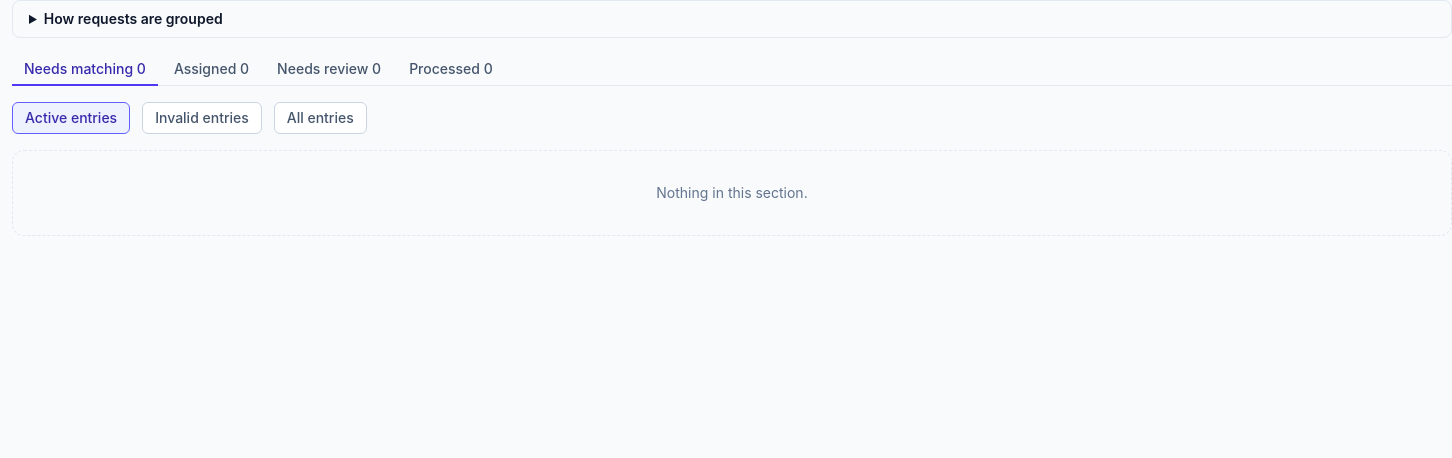
Scenario: keeps a flagged public request visible in its original queue without assignment controls or inline private reason
Click the button "Invalid entries": [202, 118] box [142,102,262,134]
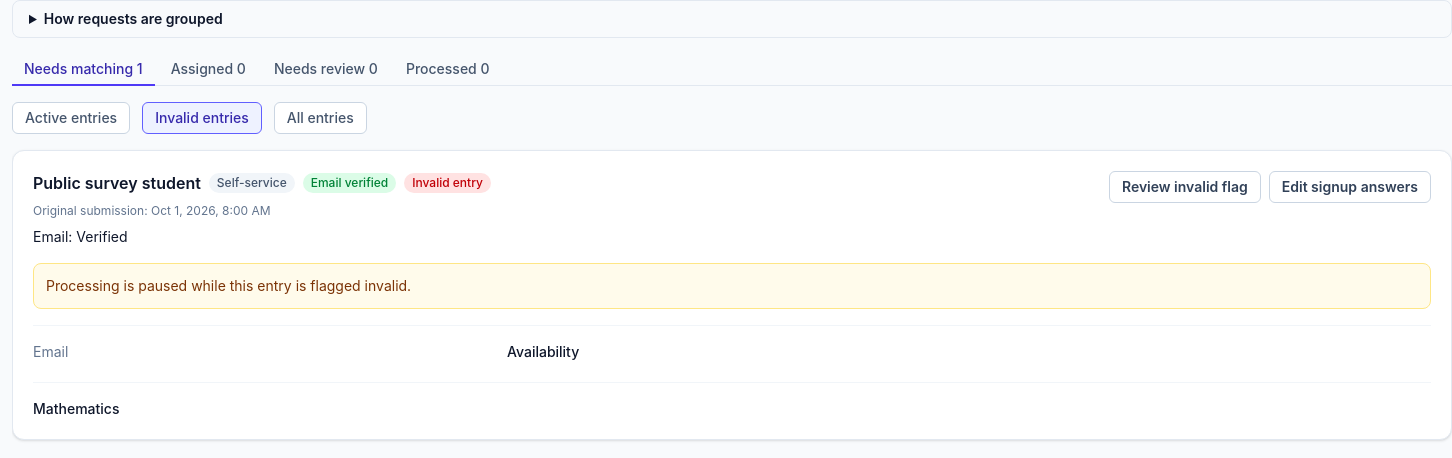
Now the heading "Public survey student" is shown, box [33,171,201,195]
Now the text "Invalid entry" is shown, box [404,173,491,193]
Now the button "Review invalid flag" is shown, box [1109,171,1261,203]
Click the button "Active entries": [71, 118] box [12,102,130,134]
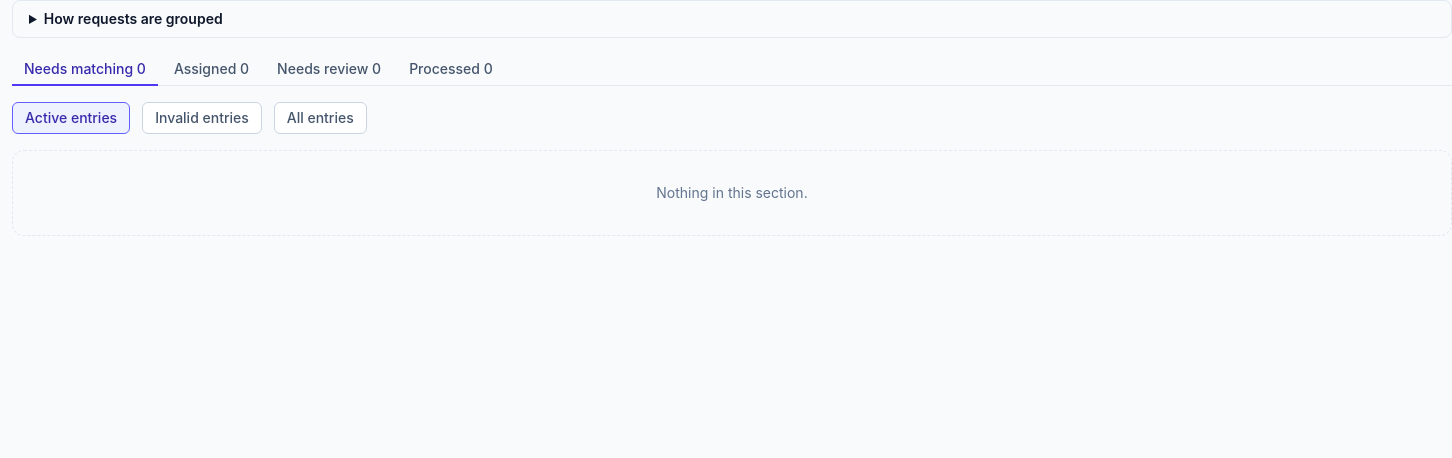
Now the heading "Public survey student" is gone
Click the button "Invalid entries": [202, 118] box [142,102,262,134]
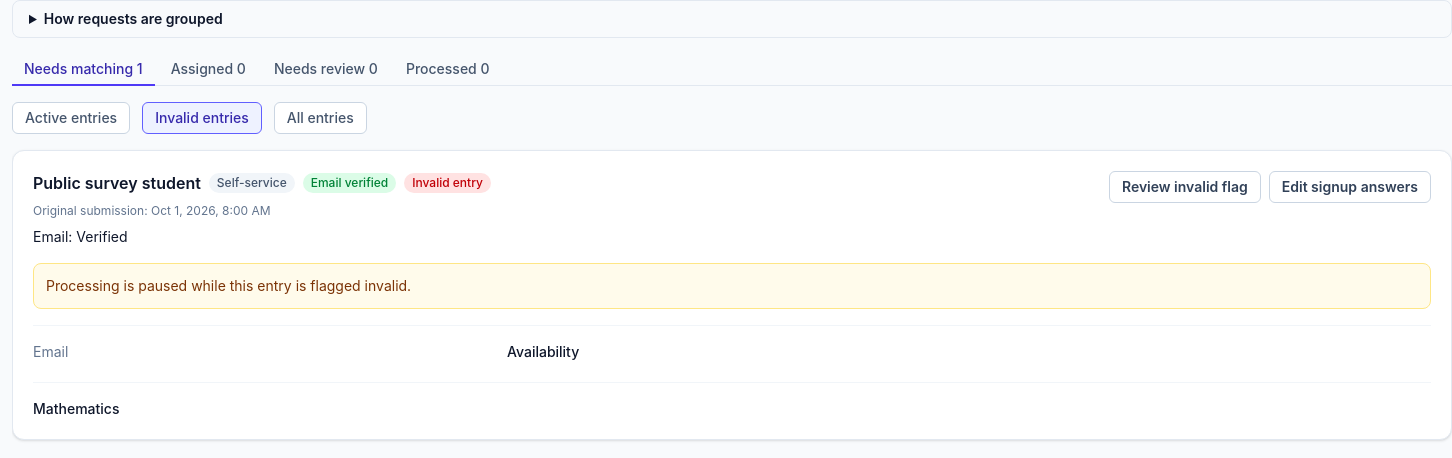
Now the heading "Public survey student" is shown, box [33,171,201,195]
